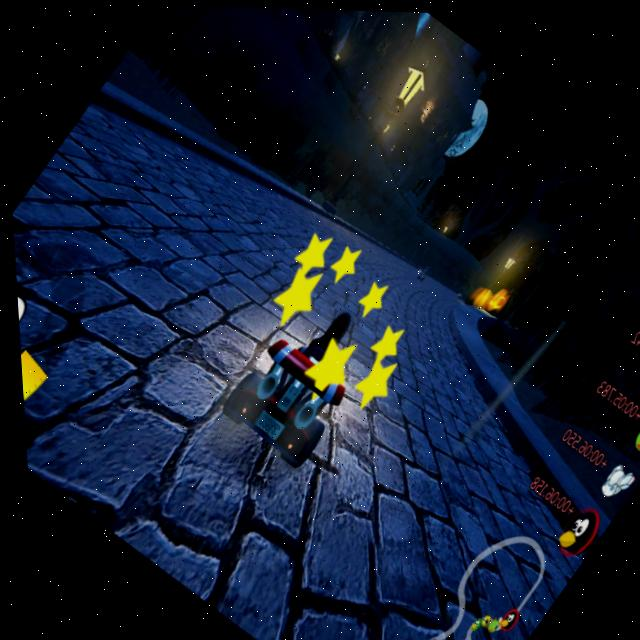enemy_kart: (405, 257, 433, 287)
obstacle: (461, 268, 513, 322)
player_kart: (195, 293, 379, 485)
track: (266, 193, 456, 352)
